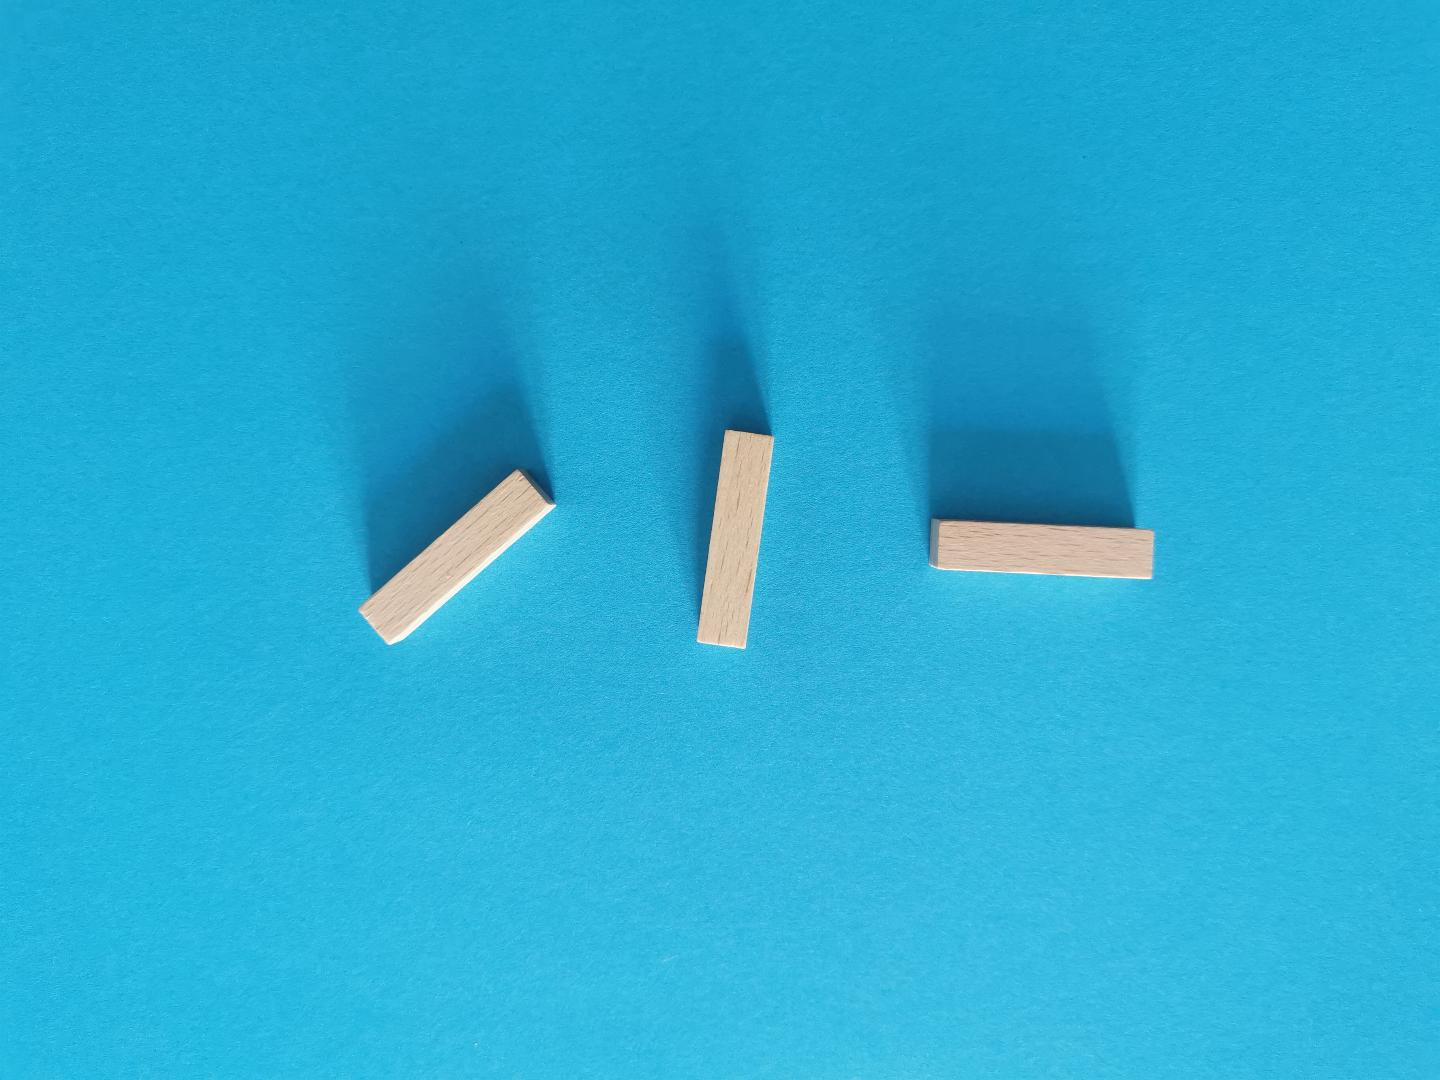jenga: (361, 470, 554, 644), (697, 430, 773, 647), (929, 521, 1153, 580)
